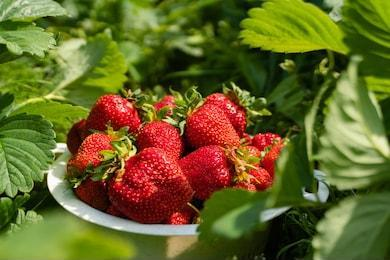Fresa: (102, 143, 199, 226), (174, 142, 240, 203), (66, 125, 131, 178), (181, 100, 244, 152), (81, 90, 145, 140)
